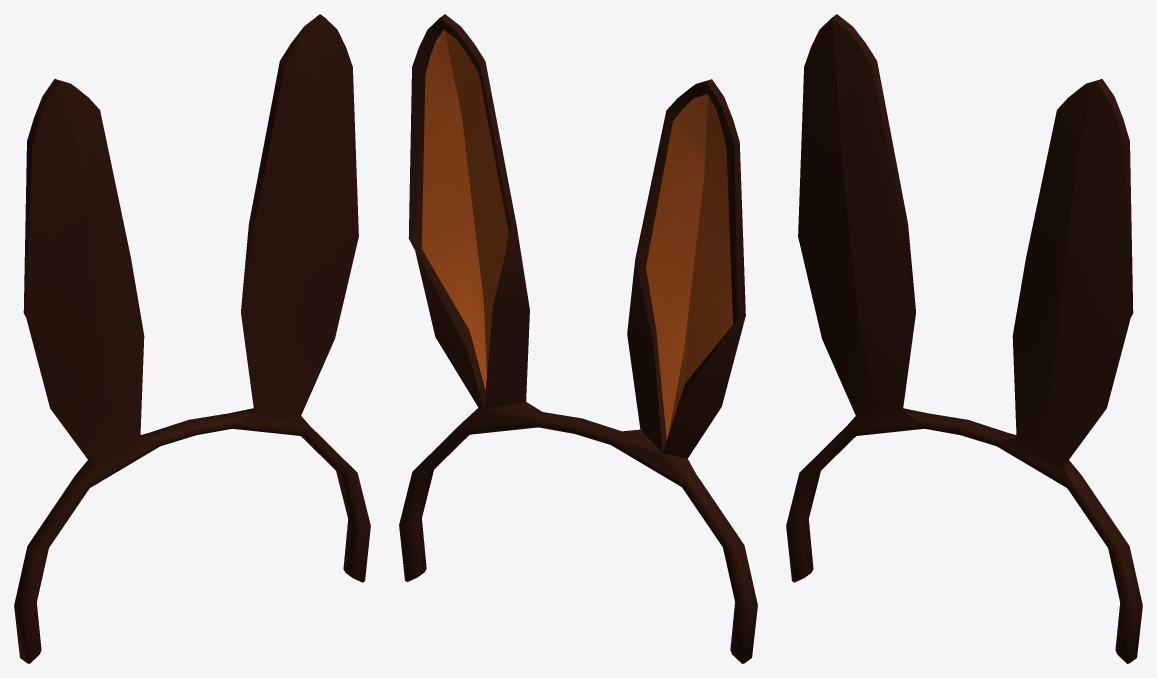
The model's file is bunnyears_basic.obj.
The picture shows the model from 3 angles, left to right: view 1: azimuth 30°, elevation 25°; view 2: azimuth 150°, elevation 25°; view 3: azimuth 330°, elevation 25°; orthographic projection.
Visible parts, largest first — view 1: 0; view 2: 0, 1; view 3: 0.
Part boxes in pixels (x1=…): 0: x1=14, y1=14, x2=370, y2=663; 0: x1=399, y1=14, x2=757, y2=663; 1: x1=421, y1=29, x2=732, y2=439; 0: x1=786, y1=14, x2=1142, y2=663.
Bounding box in the file's own units: 0.4866 × 0.7593 × 0.0326.
